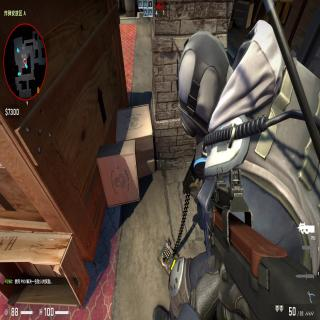CT-Head: (178, 30, 233, 128)
